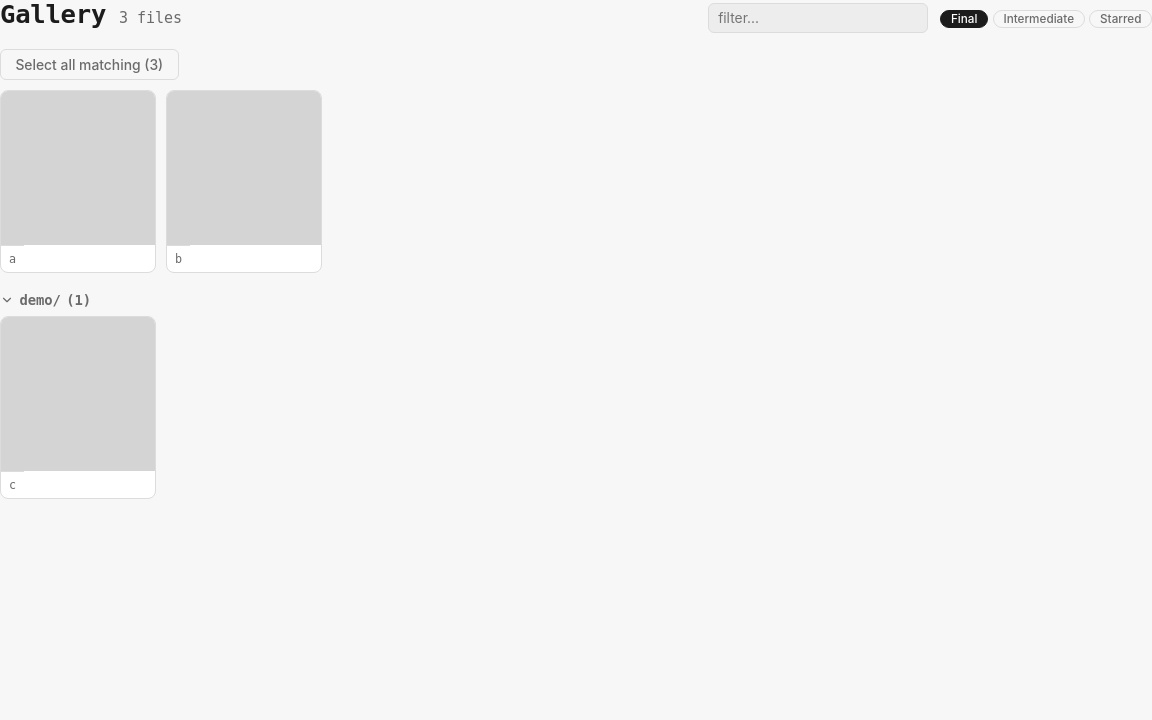
Test: drops a file deleted from the detail panel out of the selection
Click the checkbox named "select a.png". click: [78, 181]
box: [0,90,156,273]
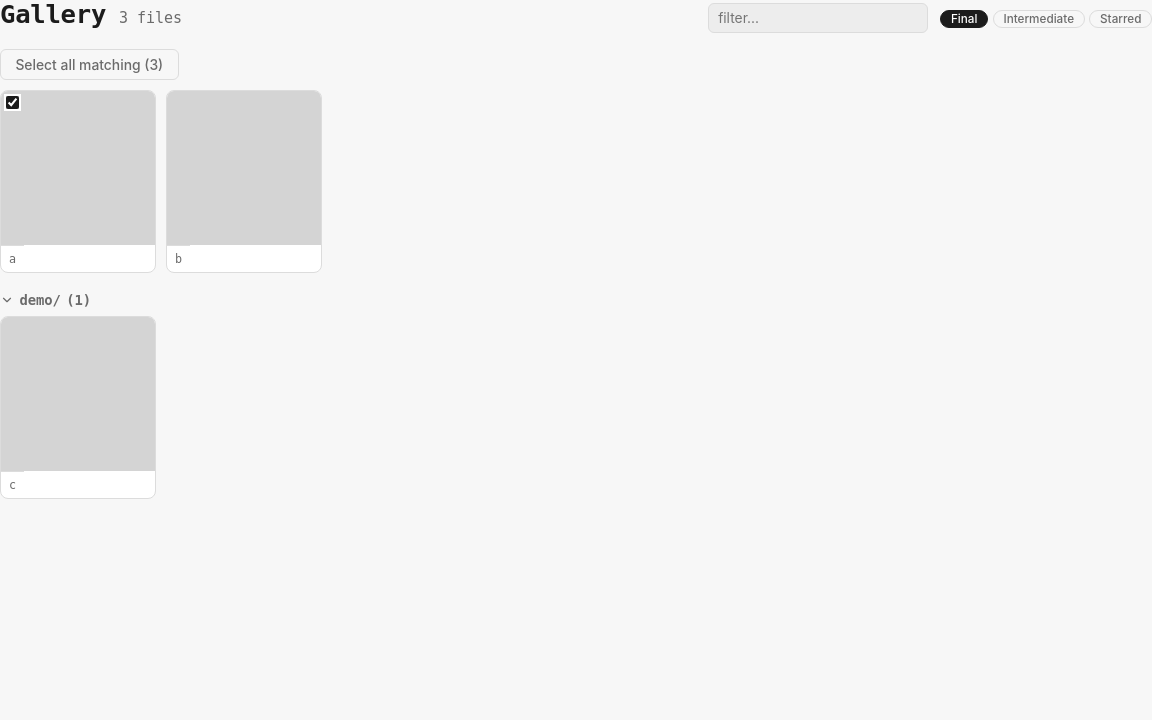
Click the checkbox named "select b.png". click: [244, 181]
box: [166,90,322,273]
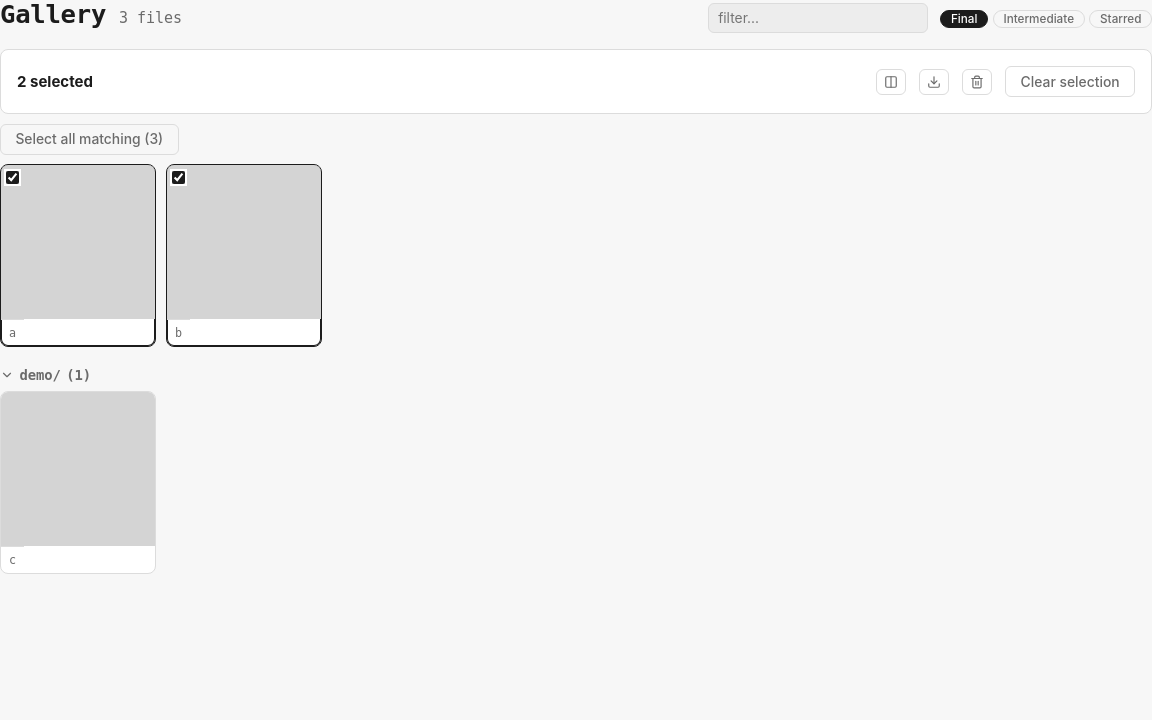
Now the text "2 selected" is shown, box [17,70,93,94]
Click the button named "a.png". click: [78, 256]
box: [0,164,156,347]
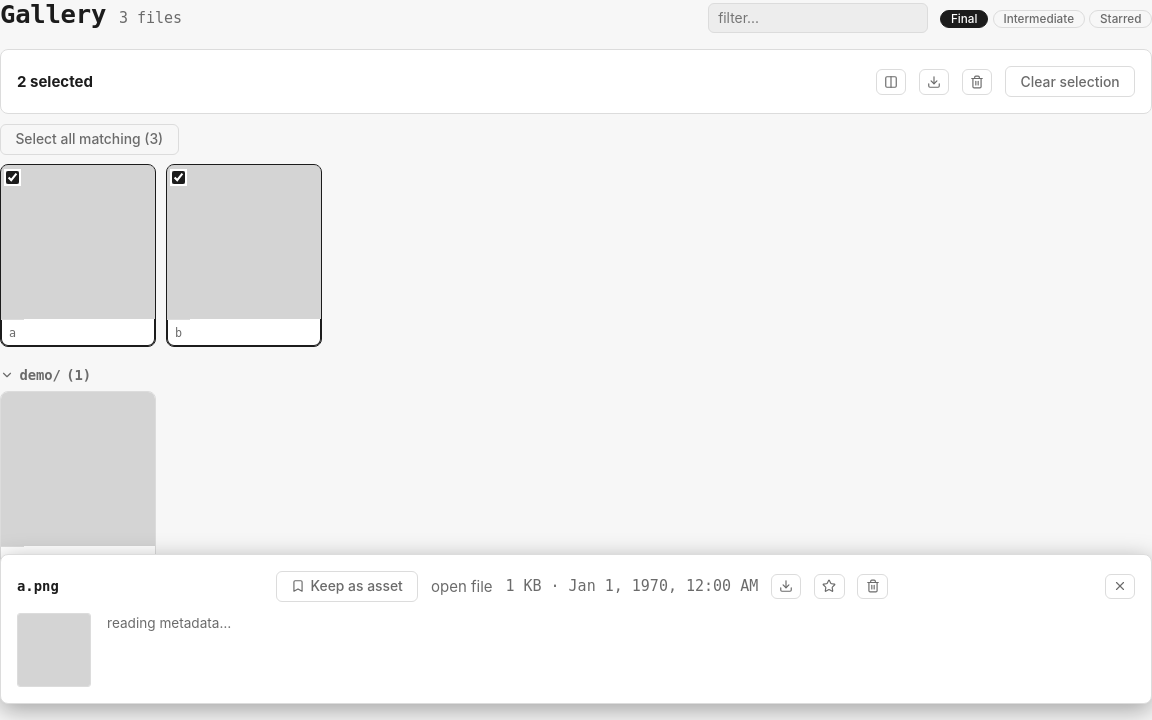
Now the button named "delete this file from the output directory" is shown
Click the button named "delete this file from the output directory". click: [873, 586]
box: [857,574,888,599]
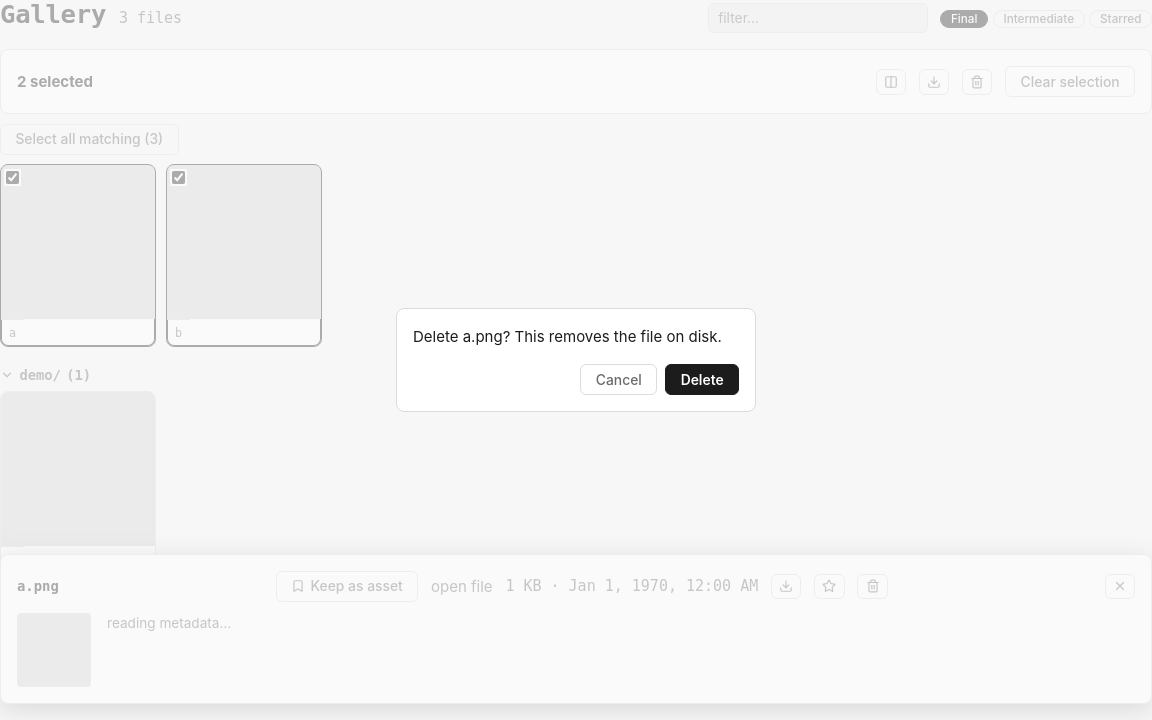
Click the button "Delete". click: [702, 380]
box: [665,364,739,395]
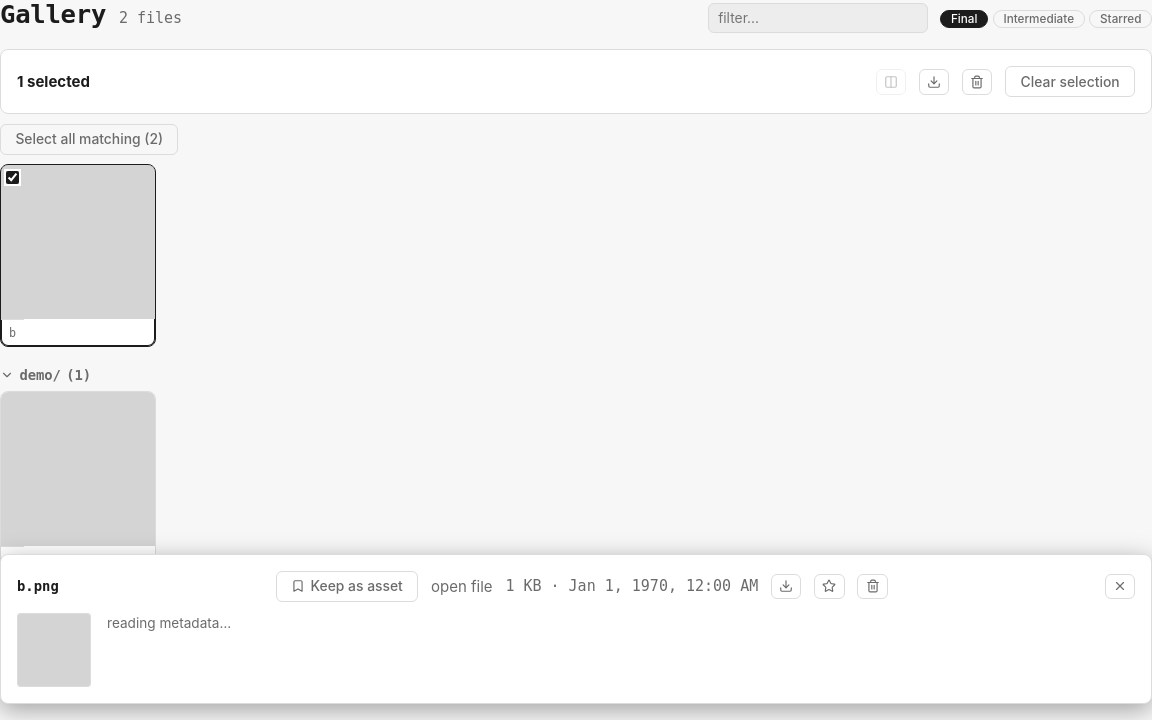
Now the checkbox named "select b.png" is shown, box [6,170,19,184]
Now the text "1 selected" is shown, box [17,70,90,94]
